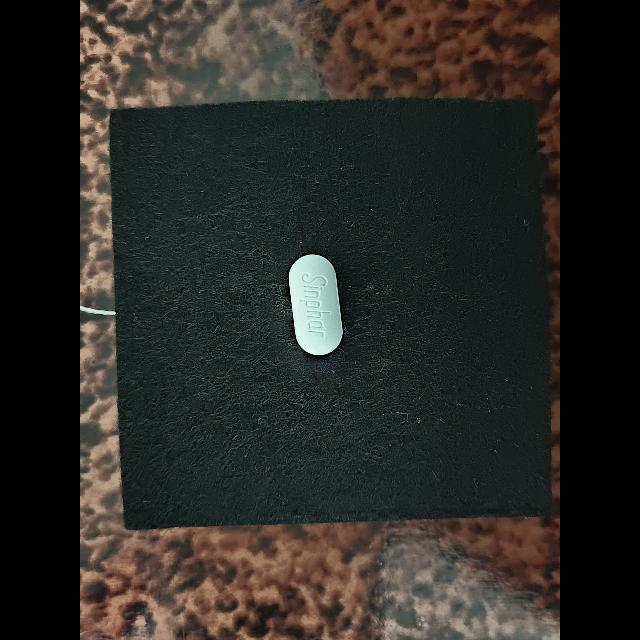Intact Pill: (288, 254, 343, 355)
